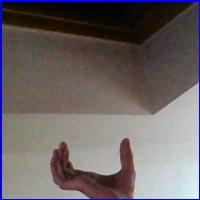space: (42, 133, 149, 199)
